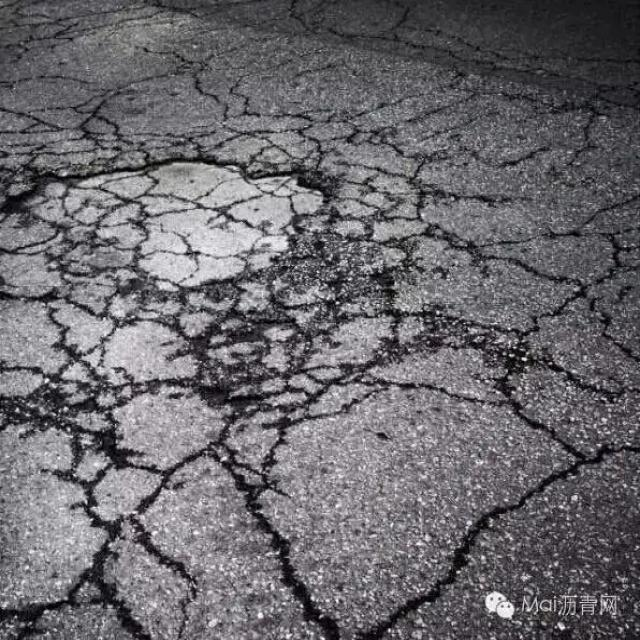Pothole: (10, 150, 338, 288)
